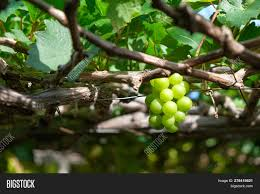grapes: (149, 70, 194, 132)
